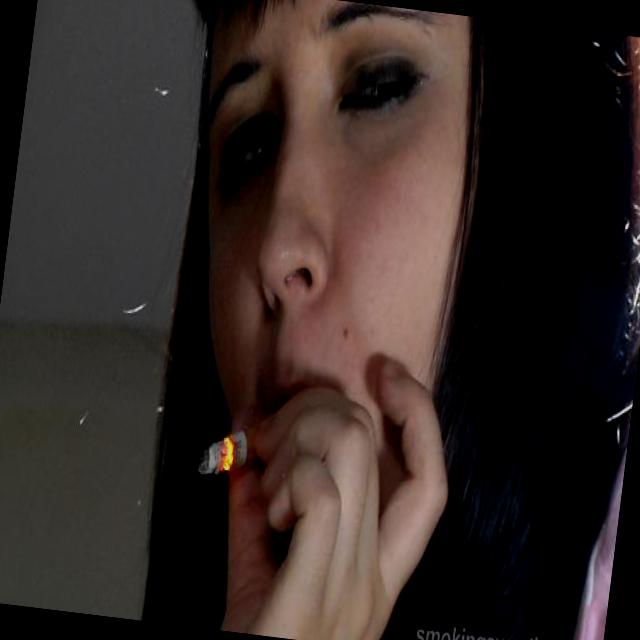cigarette: (172, 392, 302, 514)
